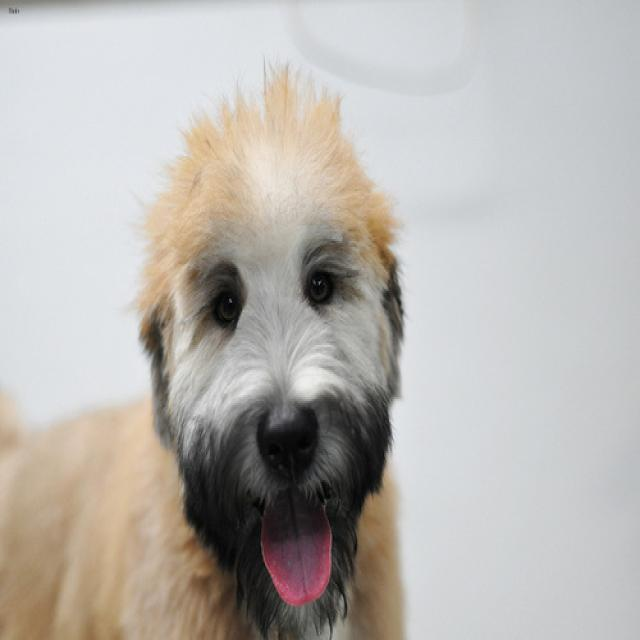dog-wheaten_terrier: (1, 48, 417, 636)
